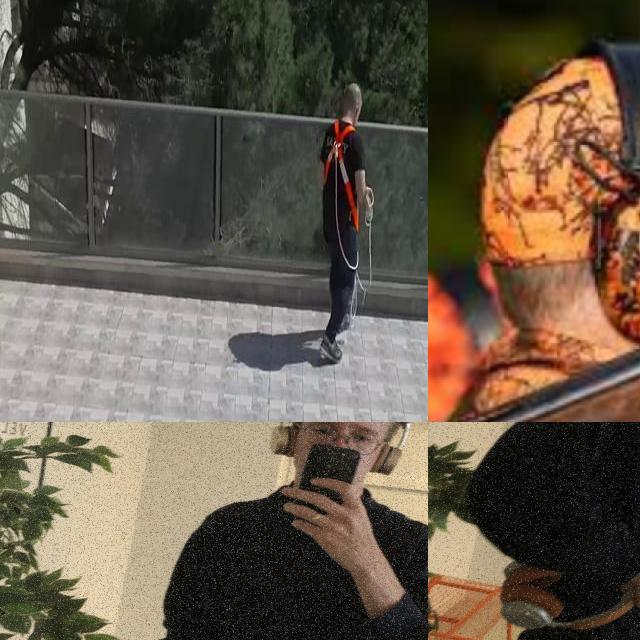Ear-protection: (474, 44, 640, 406), (255, 422, 428, 499)
Harness: (324, 121, 357, 234)
